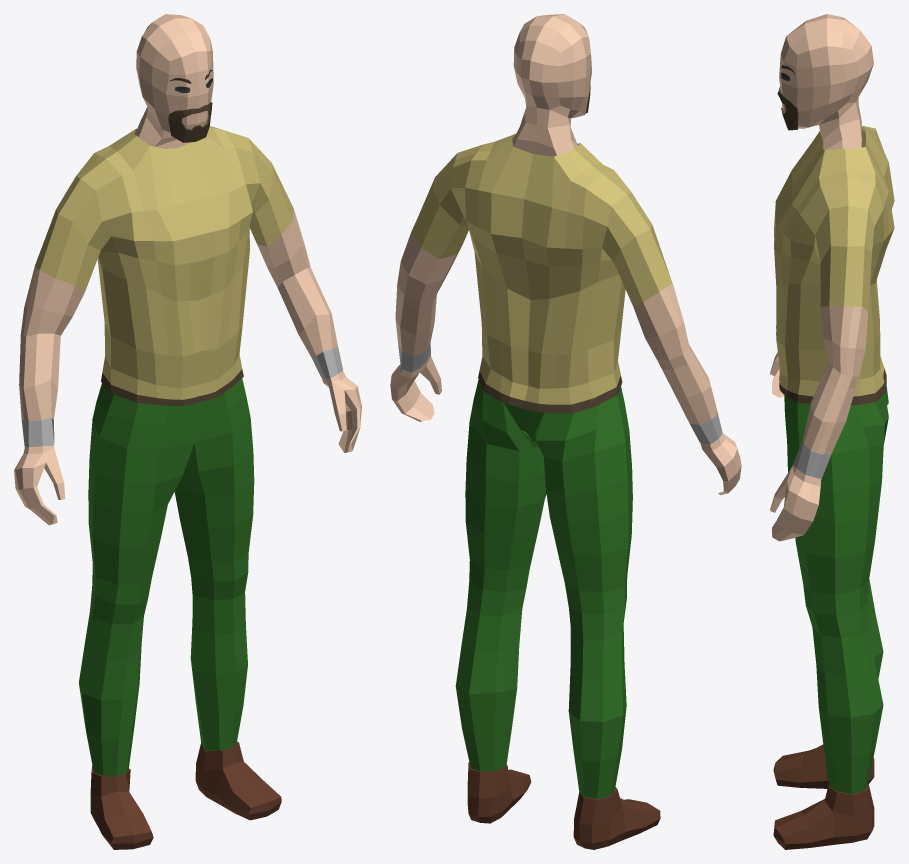
Rendered from Bob.fbx.
The picture shows the model from 3 angles, left to right: view 1: azimuth 30°, elevation 25°; view 2: azimuth 150°, elevation 25°; view 3: azimuth 270°, elevation 25°; orthographic projection.
Parts seen in each view (by area): view 1: Short Sleeve Tshirt.001, Trousers.001, Body, Shoes.001, Beard.002; view 2: Short Sleeve Tshirt.001, Trousers.001, Body, Shoes.001; view 3: Short Sleeve Tshirt.001, Trousers.001, Body, Shoes.001, Beard.002.
Boxes of the visible parts, x1,y1,x2,y2 form: Short Sleeve Tshirt.001: (19,126,343,446); Trousers.001: (79,378,254,775); Body: (14,14,361,525); Shoes.001: (90,741,281,849); Beard.002: (168,102,212,142); Short Sleeve Tshirt.001: (395,134,722,444); Trousers.001: (455,379,632,798); Body: (390,14,741,495); Shoes.001: (467,762,660,849); Short Sleeve Tshirt.001: (774,125,894,478); Trousers.001: (784,387,888,793); Body: (770,14,873,541); Shoes.001: (773,744,874,849); Beard.002: (777,87,798,130).
Size of the model in its own units: 81.02 by 182 by 25.9.
